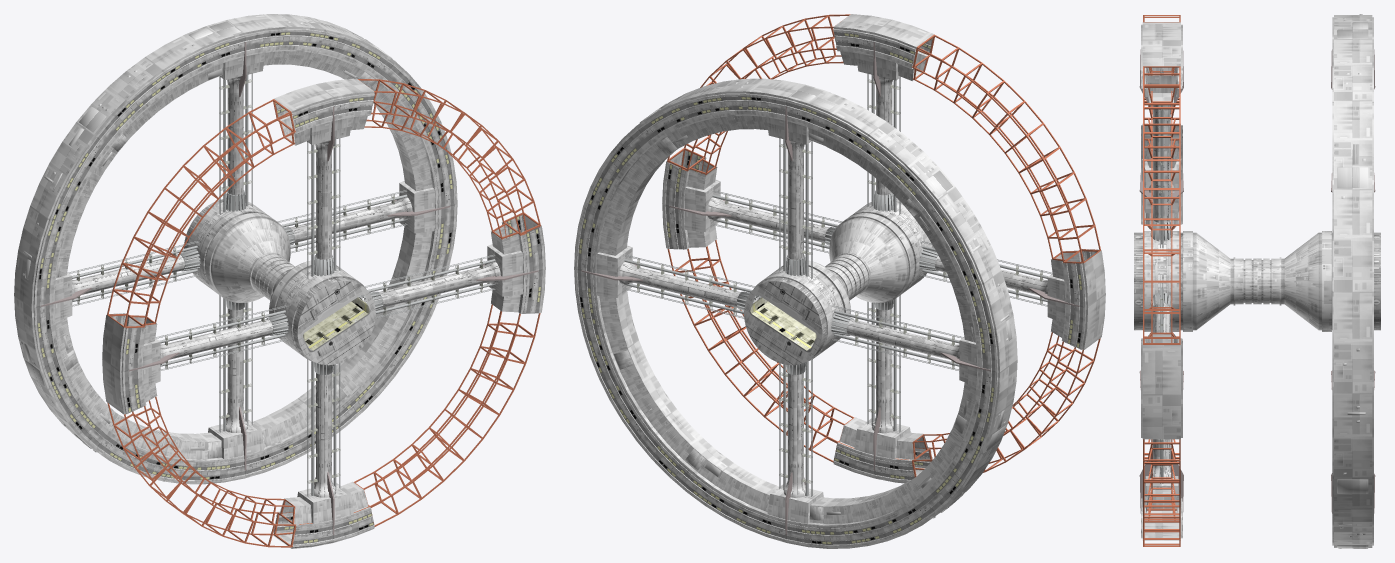
The model's file is space.glb.
The picture shows the model from 3 angles, left to right: view 1: azimuth 30°, elevation 25°; view 2: azimuth 150°, elevation 25°; view 3: azimuth 270°, elevation 25°; orthographic projection. The views are drawn at different scales.
Parts seen in each view (by area): view 1: RuedaGigante, RuedaPeque, Mesh02_Material #26_0, Wheel_Gird, Ejeinterno, Mesh04_Material #26_0, Mesh03_Material #26_0, Mesh05_Material #26_0, Mesh06_Material #26_0; view 2: RuedaGigante, RuedaPeque, Mesh01_Material #26_0, Wheel_Gird, Ejeinterno, Mesh10_Material #26_0, Mesh07_Material #26_0, Mesh09_Material #26_0, Mesh08_Material #26_0; view 3: RuedaPeque, RuedaGigante, Wheel_Gird.
Boxes of the visible parts, x1=… form: RuedaGigante: x1=14, y1=14, x2=457, y2=484; RuedaPeque: x1=102, y1=78, x2=545, y2=548; Mesh02_Material #26_0: x1=34, y1=29, x2=456, y2=482; Wheel_Gird: x1=107, y1=79, x2=540, y2=547; Ejeinterno: x1=297, y1=281, x2=375, y2=365; Mesh04_Material #26_0: x1=520, y1=227, x2=544, y2=313; Mesh03_Material #26_0: x1=293, y1=507, x2=374, y2=547; Mesh05_Material #26_0: x1=292, y1=94, x2=374, y2=133; Mesh06_Material #26_0: x1=122, y1=327, x2=146, y2=413; RuedaGigante: x1=574, y1=78, x2=1017, y2=548; RuedaPeque: x1=662, y1=14, x2=1105, y2=483; Mesh01_Material #26_0: x1=575, y1=94, x2=997, y2=547; Wheel_Gird: x1=667, y1=14, x2=1100, y2=477; Ejeinterno: x1=744, y1=281, x2=822, y2=365; Mesh10_Material #26_0: x1=663, y1=163, x2=687, y2=249; Mesh07_Material #26_0: x1=833, y1=443, x2=914, y2=482; Mesh09_Material #26_0: x1=833, y1=29, x2=915, y2=69; Mesh08_Material #26_0: x1=1061, y1=263, x2=1085, y2=349; RuedaPeque: x1=1134, y1=22, x2=1380, y2=540; RuedaGigante: x1=1331, y1=14, x2=1375, y2=548; Wheel_Gird: x1=1143, y1=15, x2=1180, y2=546.
Size of the model in its own units: 9.7 by 9.72 by 4.49.
12 materials, 8 textured.
